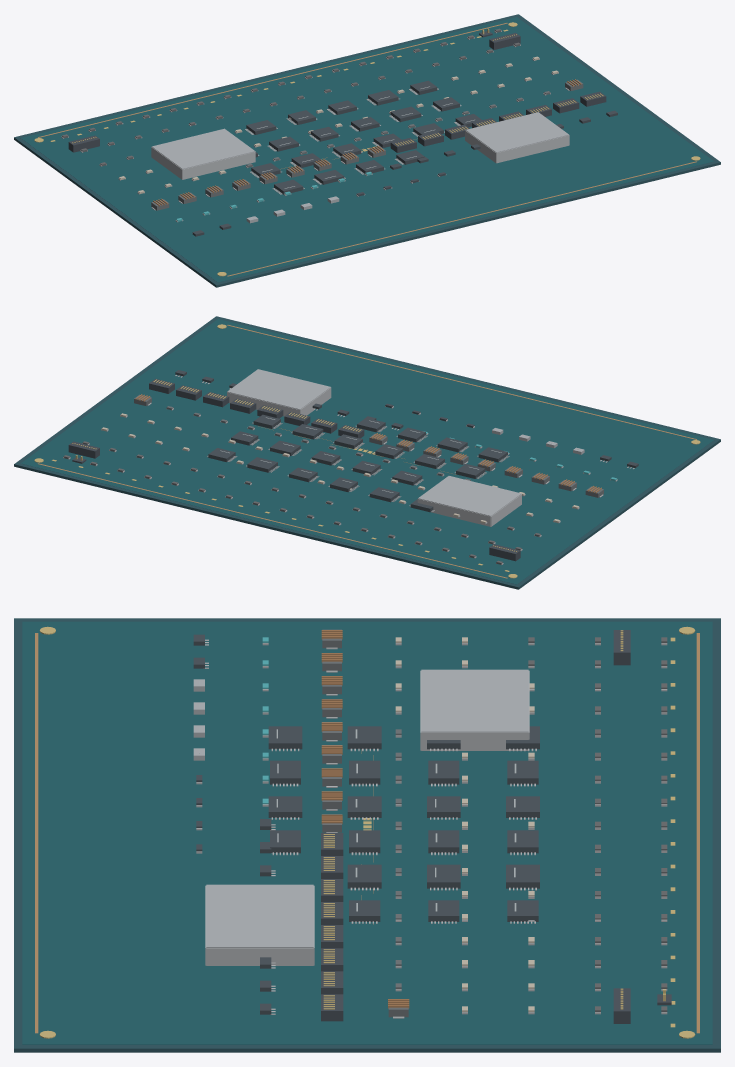
The model's file is 191_L112_AssembledReference.glb.
The picture shows the model from 3 angles, top to bottom: view 1: azimuth 30°, elevation 25°; view 2: azimuth 150°, elevation 25°; view 3: azimuth 270°, elevation 25°; orthographic projection. The views are drawn at different scales.
Visible parts, largest first — view 1: part001__PSMAT__Soldermask_Midnight, part000__PSMAT__PCB_Graphite, part899__PSMAT__Aluminum_Brush, part904__PSMAT__Aluminum_Brush, part903__PSMAT__Tin_Solder, part908__PSMAT__Tin_Solder, part003__PSMAT__Copper_Exposed, part002__PSMAT__Copper_Exposed; view 2: part001__PSMAT__Soldermask_Midnight, part000__PSMAT__PCB_Graphite, part904__PSMAT__Aluminum_Brush, part899__PSMAT__Aluminum_Brush, part002__PSMAT__Copper_Exposed, part003__PSMAT__Copper_Exposed, part907__PSMAT__Tin_Solder; view 3: part001__PSMAT__Soldermask_Midnight, part000__PSMAT__PCB_Graphite, part899__PSMAT__Aluminum_Brush, part904__PSMAT__Aluminum_Brush, part901__PSMAT__Tin_Solder, part002__PSMAT__Copper_Exposed, part003__PSMAT__Copper_Exposed, part906__PSMAT__Tin_Solder, part314__PSMAT__IC_Epoxy, part206__PSMAT__IC_Epoxy, part098__PSMAT__IC_Epoxy, part242__PSMAT__IC_Epoxy (+16 smaller).
Boxes of the visible parts, left/top/right/bottom form: part001__PSMAT__Soldermask_Midnight: left=21, top=17, right=713, bottom=282; part000__PSMAT__PCB_Graphite: left=14, top=14, right=720, bottom=287; part899__PSMAT__Aluminum_Brush: left=465, top=112, right=568, bottom=152; part904__PSMAT__Aluminum_Brush: left=151, top=128, right=255, bottom=169; part903__PSMAT__Tin_Solder: left=496, top=135, right=569, bottom=163; part908__PSMAT__Tin_Solder: left=182, top=151, right=255, bottom=179; part003__PSMAT__Copper_Exposed: left=227, top=161, right=696, bottom=276; part002__PSMAT__Copper_Exposed: left=38, top=23, right=507, bottom=137; part001__PSMAT__Soldermask_Midnight: left=21, top=319, right=713, bottom=584; part000__PSMAT__PCB_Graphite: left=14, top=316, right=720, bottom=589; part904__PSMAT__Aluminum_Brush: left=418, top=476, right=521, bottom=516; part899__PSMAT__Aluminum_Brush: left=227, top=369, right=330, bottom=409; part002__PSMAT__Copper_Exposed: left=38, top=463, right=507, bottom=578; part003__PSMAT__Copper_Exposed: left=227, top=325, right=696, bottom=439; part907__PSMAT__Tin_Solder: left=418, top=499, right=490, bottom=526; part001__PSMAT__Soldermask_Midnight: left=22, top=621, right=712, bottom=1044; part000__PSMAT__PCB_Graphite: left=14, top=618, right=720, bottom=1052; part899__PSMAT__Aluminum_Brush: left=206, top=884, right=313, bottom=947; part904__PSMAT__Aluminum_Brush: left=421, top=669, right=528, bottom=732; part901__PSMAT__Tin_Solder: left=206, top=948, right=313, bottom=965; part002__PSMAT__Copper_Exposed: left=696, top=633, right=699, bottom=1033; part003__PSMAT__Copper_Exposed: left=35, top=633, right=38, bottom=1033; part906__PSMAT__Tin_Solder: left=421, top=732, right=528, bottom=750; part314__PSMAT__IC_Epoxy: left=347, top=864, right=381, bottom=888; part206__PSMAT__IC_Epoxy: left=427, top=864, right=460, bottom=888; part098__PSMAT__IC_Epoxy: left=506, top=864, right=539, bottom=888; part242__PSMAT__IC_Epoxy: left=347, top=726, right=381, bottom=749.
Bounding box in the file's own units: 0.36 × 0.00912 × 0.25.
